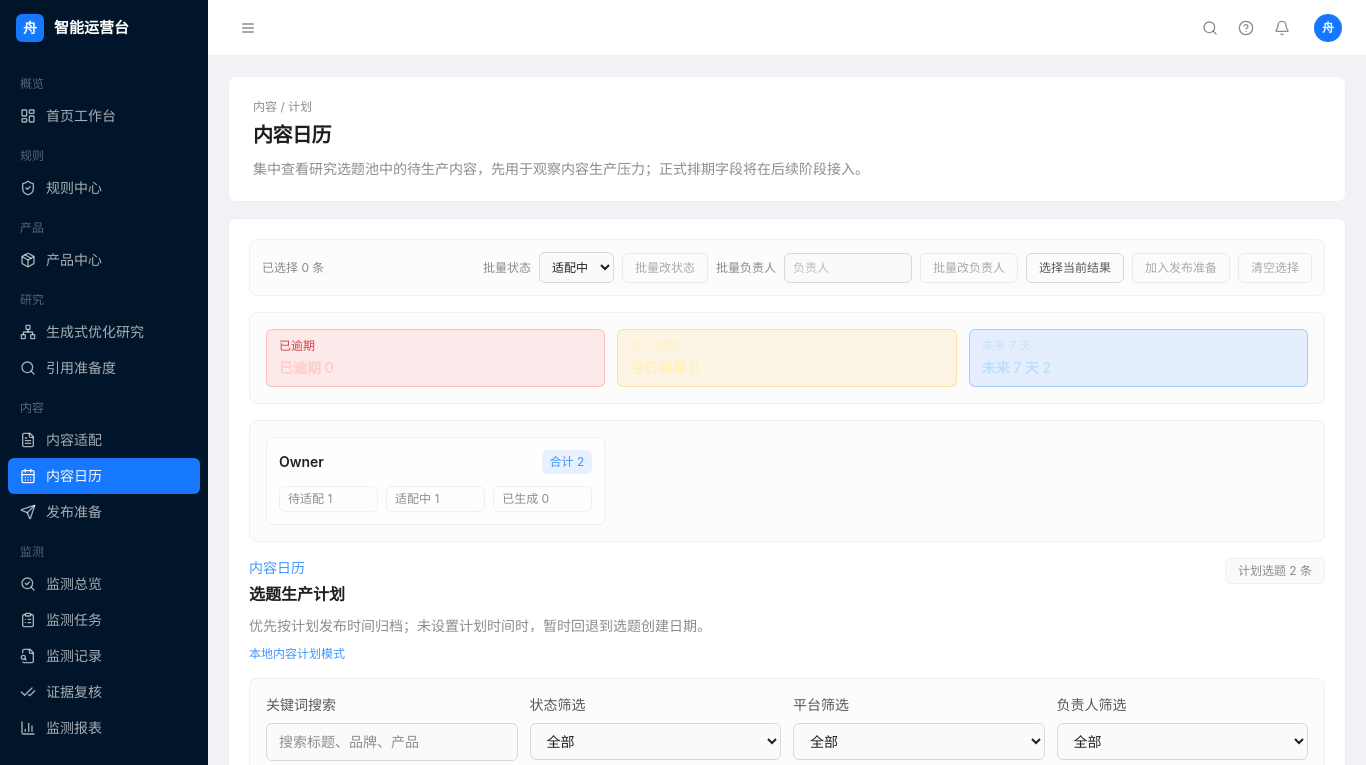
Test: P28 内容日历独立页面 › supports selecting visible content plans in bulk
Check: the text "已选择 0 条" is shown, box [262,260,324,276]
What coordinates should you click on to do the following:
click the button "选择当前结果"
I would click on:
 (1075, 268)
Its box is [1026,253,1124,283].
(page scrolled)
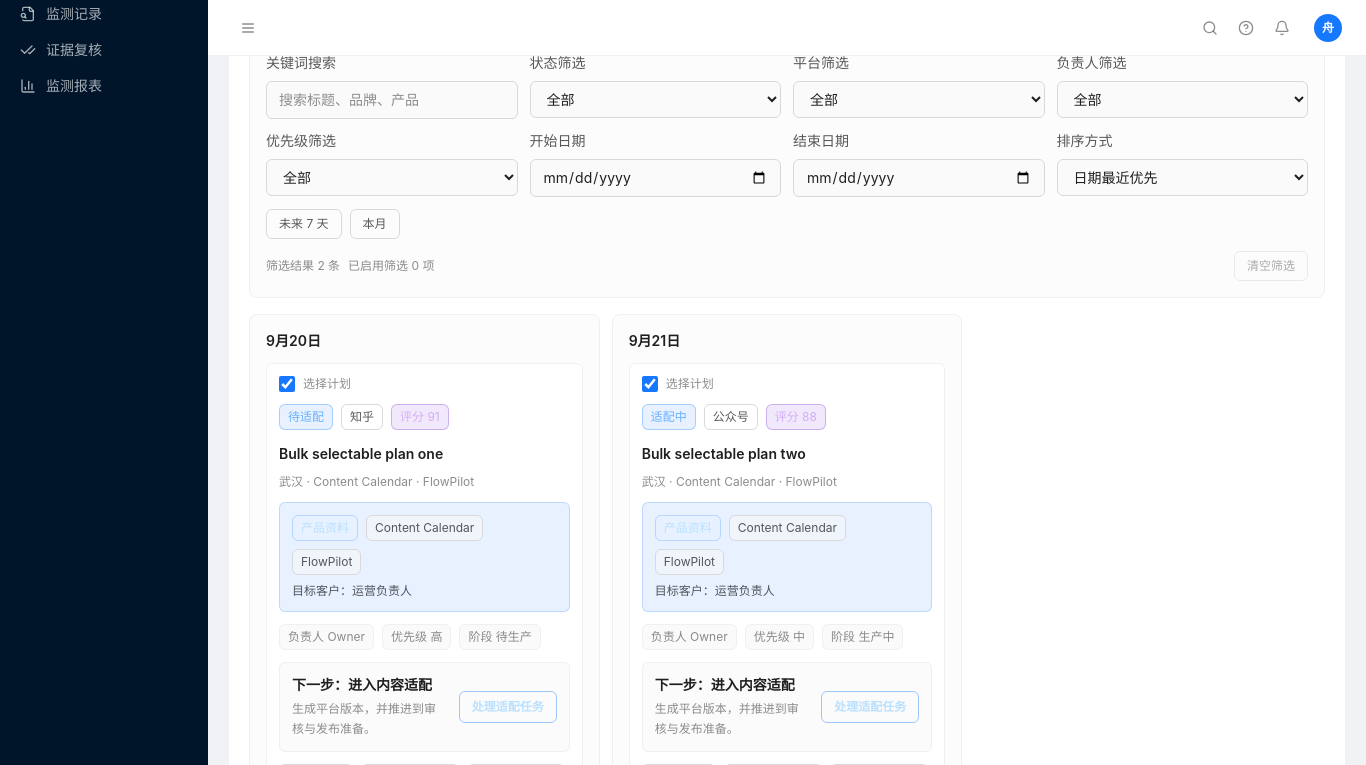
Check: the checkbox named "选择计划 Bulk selectable plan one" is checked
Check: the checkbox named "选择计划 Bulk selectable plan two" is checked, box [642,376,658,392]
What coordinates should you click on to do the following:
click the checkbox named "选择计划 Bulk selectable plan one"
I would click on:
 (287, 384)
Its box is [279,376,295,392].
(page scrolled)
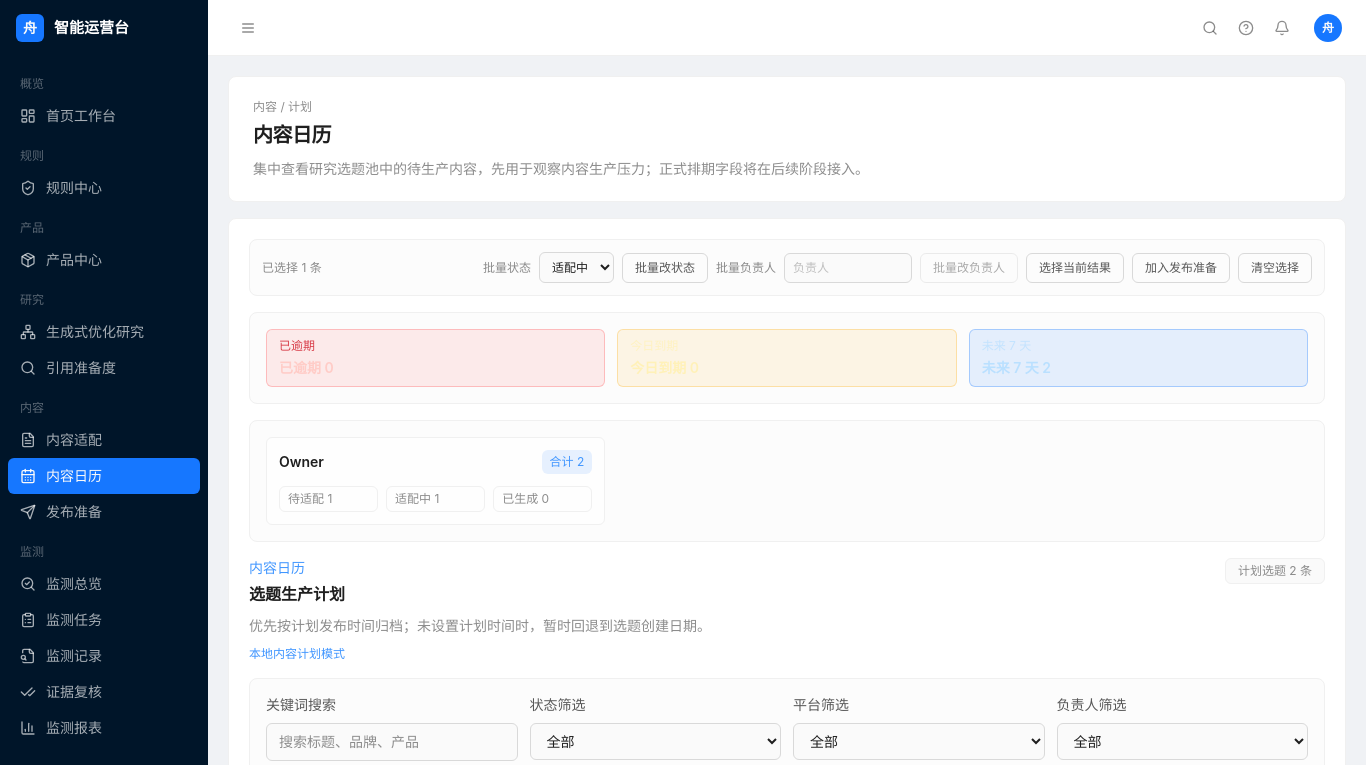
Check: the text "已选择 1 条" is shown, box [262,260,322,276]
What coordinates should you click on to do the following:
click the button "清空选择"
I would click on:
 (1275, 268)
Its box is [1238,253,1312,283].
(page scrolled)
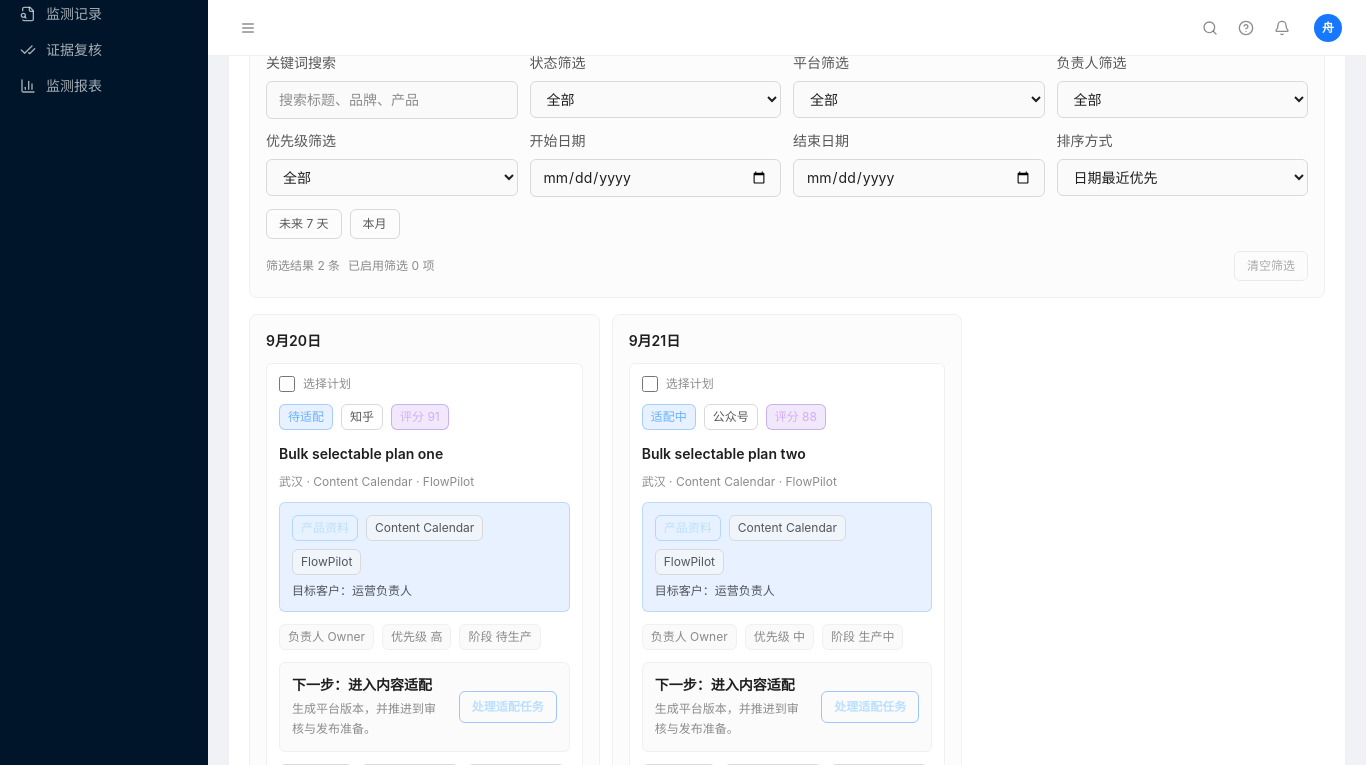
Check: the checkbox named "选择计划 Bulk selectable plan two" is not checked, box [642,376,658,392]
